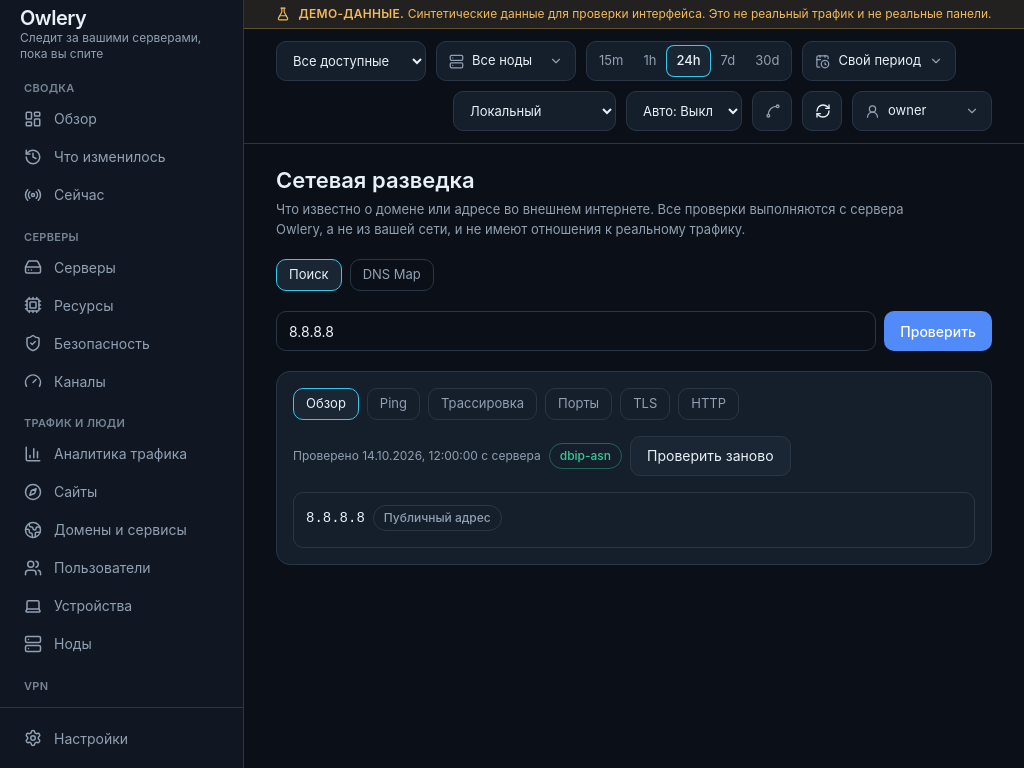
Test: network intelligence › shows a route with silent hops and a certificate that is not trusted, each with its caveat
This screenshot has width=1024, height=768.
Click the tab "Трассировка" at (482, 404), box [428,388,537,420]
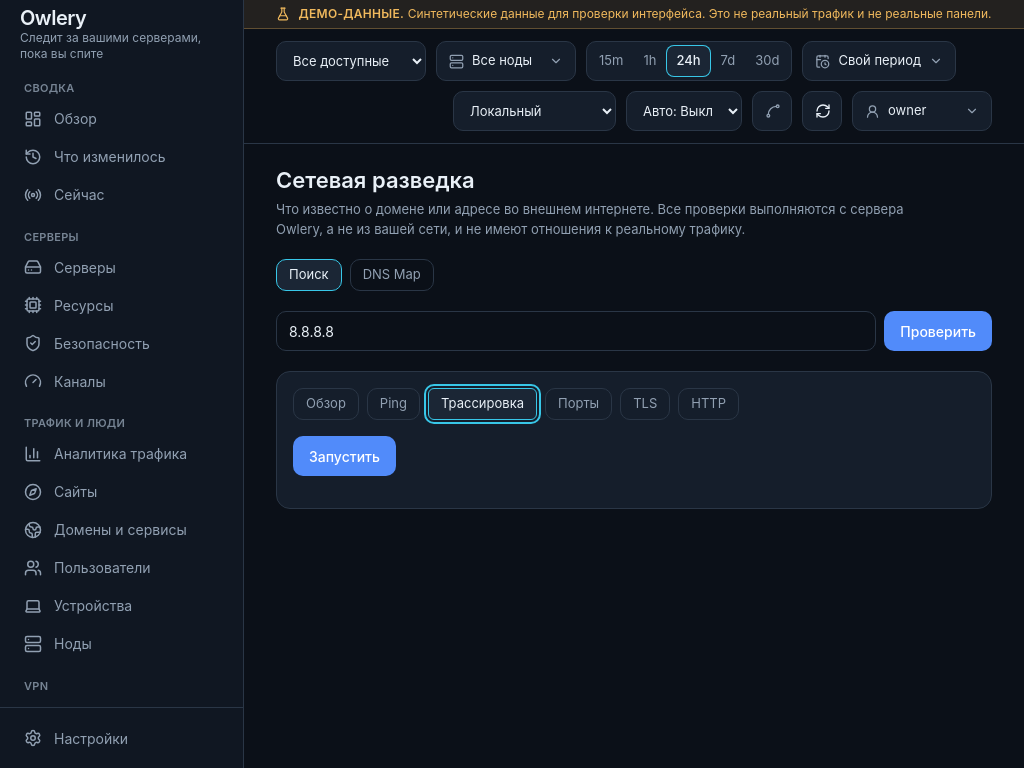
Click the button "Запустить" at (344, 456), box [293,436,396,476]
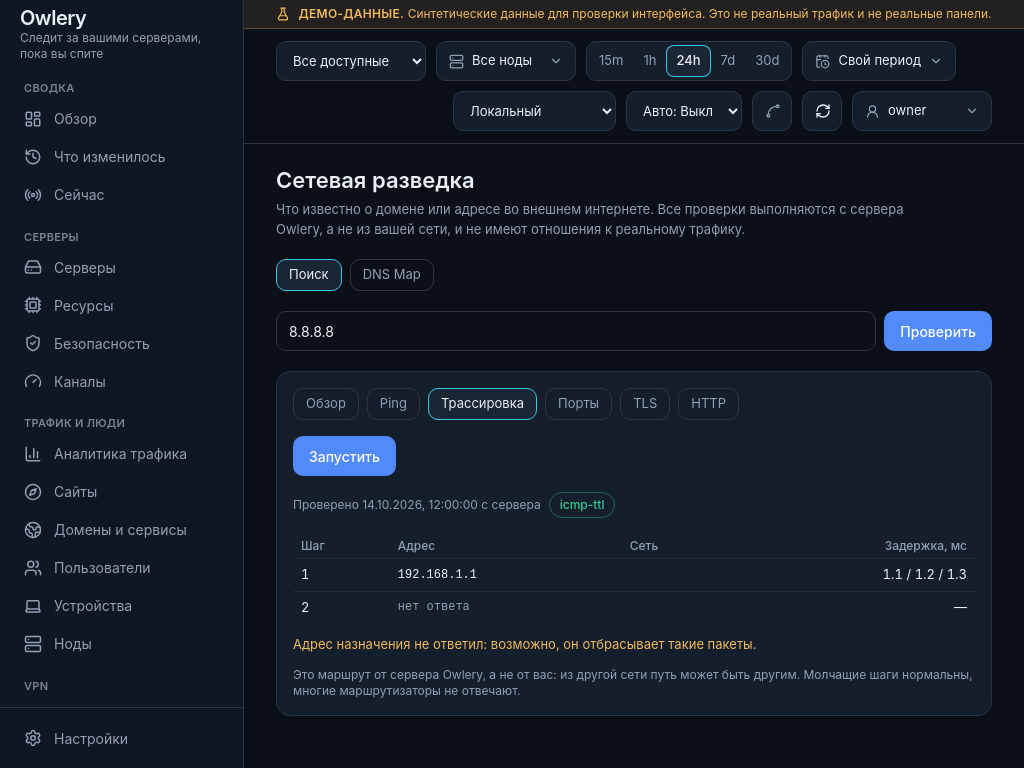
Result: the text "192.168.1.1" is shown at [390,558,622,591]
Result: the text "нет ответа" is shown at [398,600,470,614]
Result: the text "Это маршрут от сервера Owlery" is shown at [293,666,973,698]
Click the tab "TLS" at (645, 404), box [620,388,670,420]
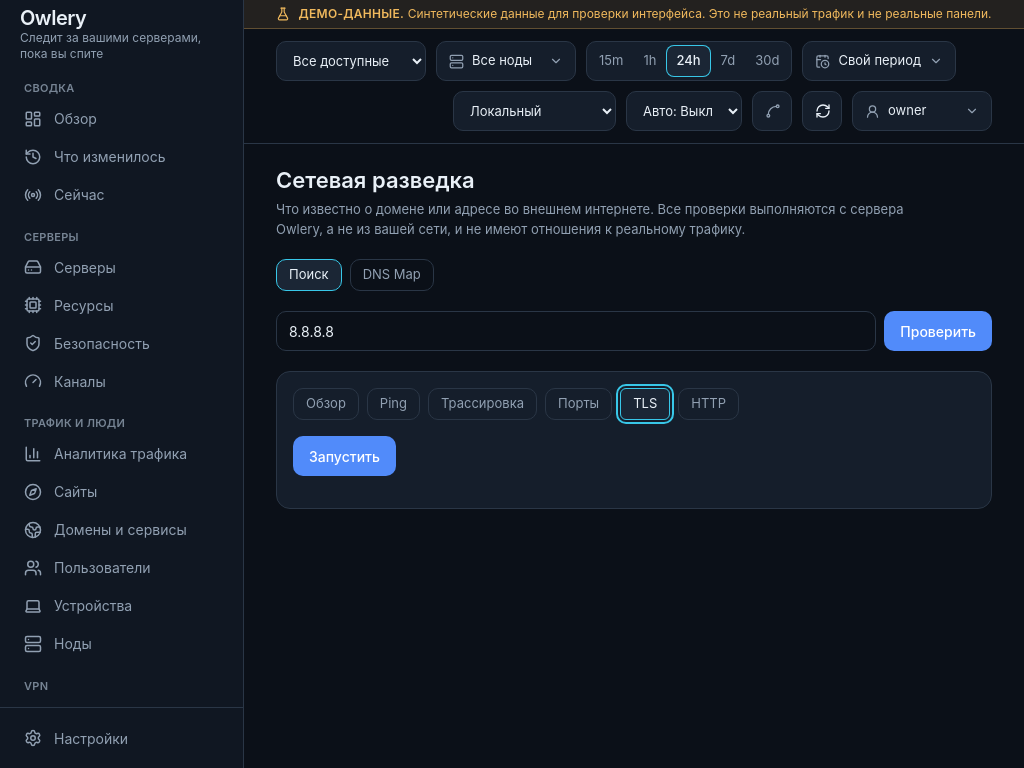
Click the button "Запустить" at (344, 456), box [293,436,396,476]
(page scrolled)
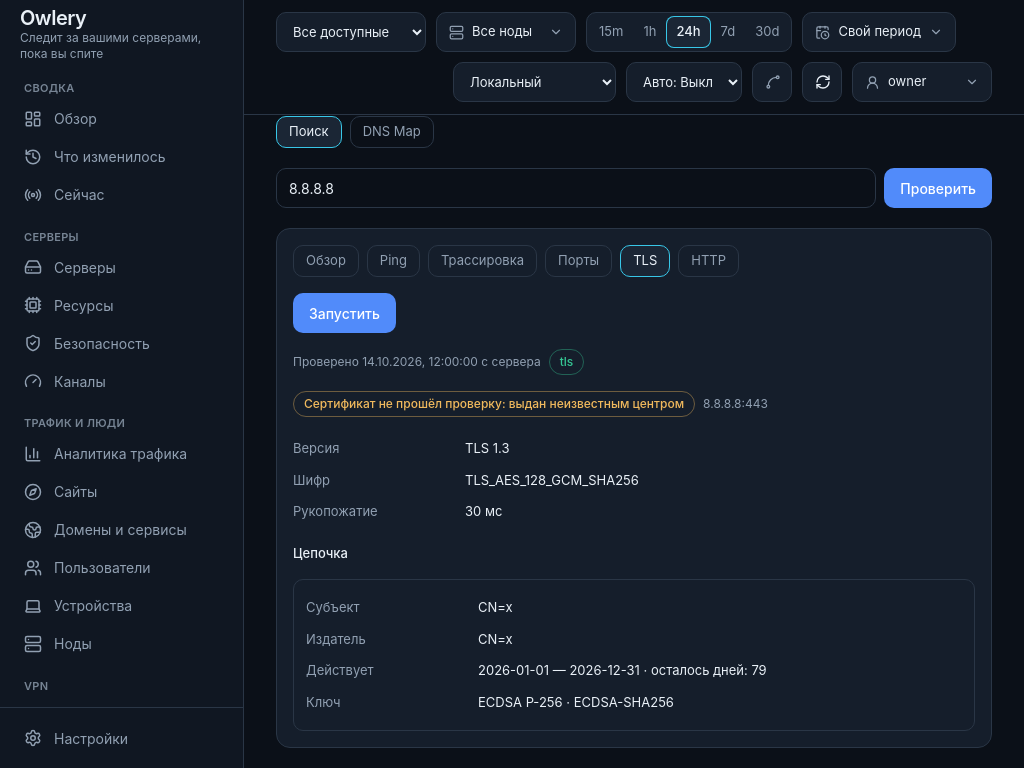
Result: the text "Сертификат не прошёл проверку: выдан неизвестным центром" is shown at [293,391,695,417]
Result: the text "2026-01-01 — 2026-12-31 · осталось дней: 79" is shown at [478,661,767,680]
